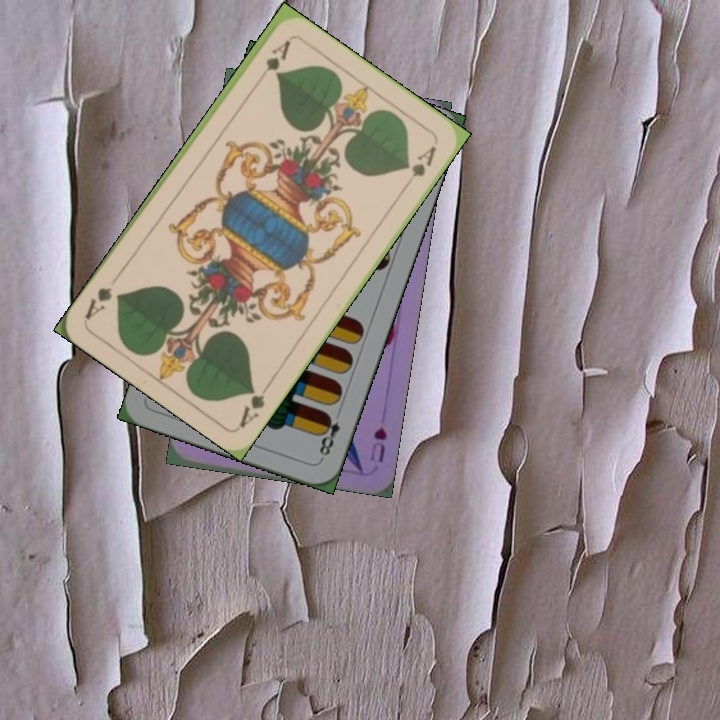E8: (315, 409, 343, 463)
GA: (252, 36, 294, 87), (235, 378, 274, 430)
HU: (366, 423, 390, 465)
